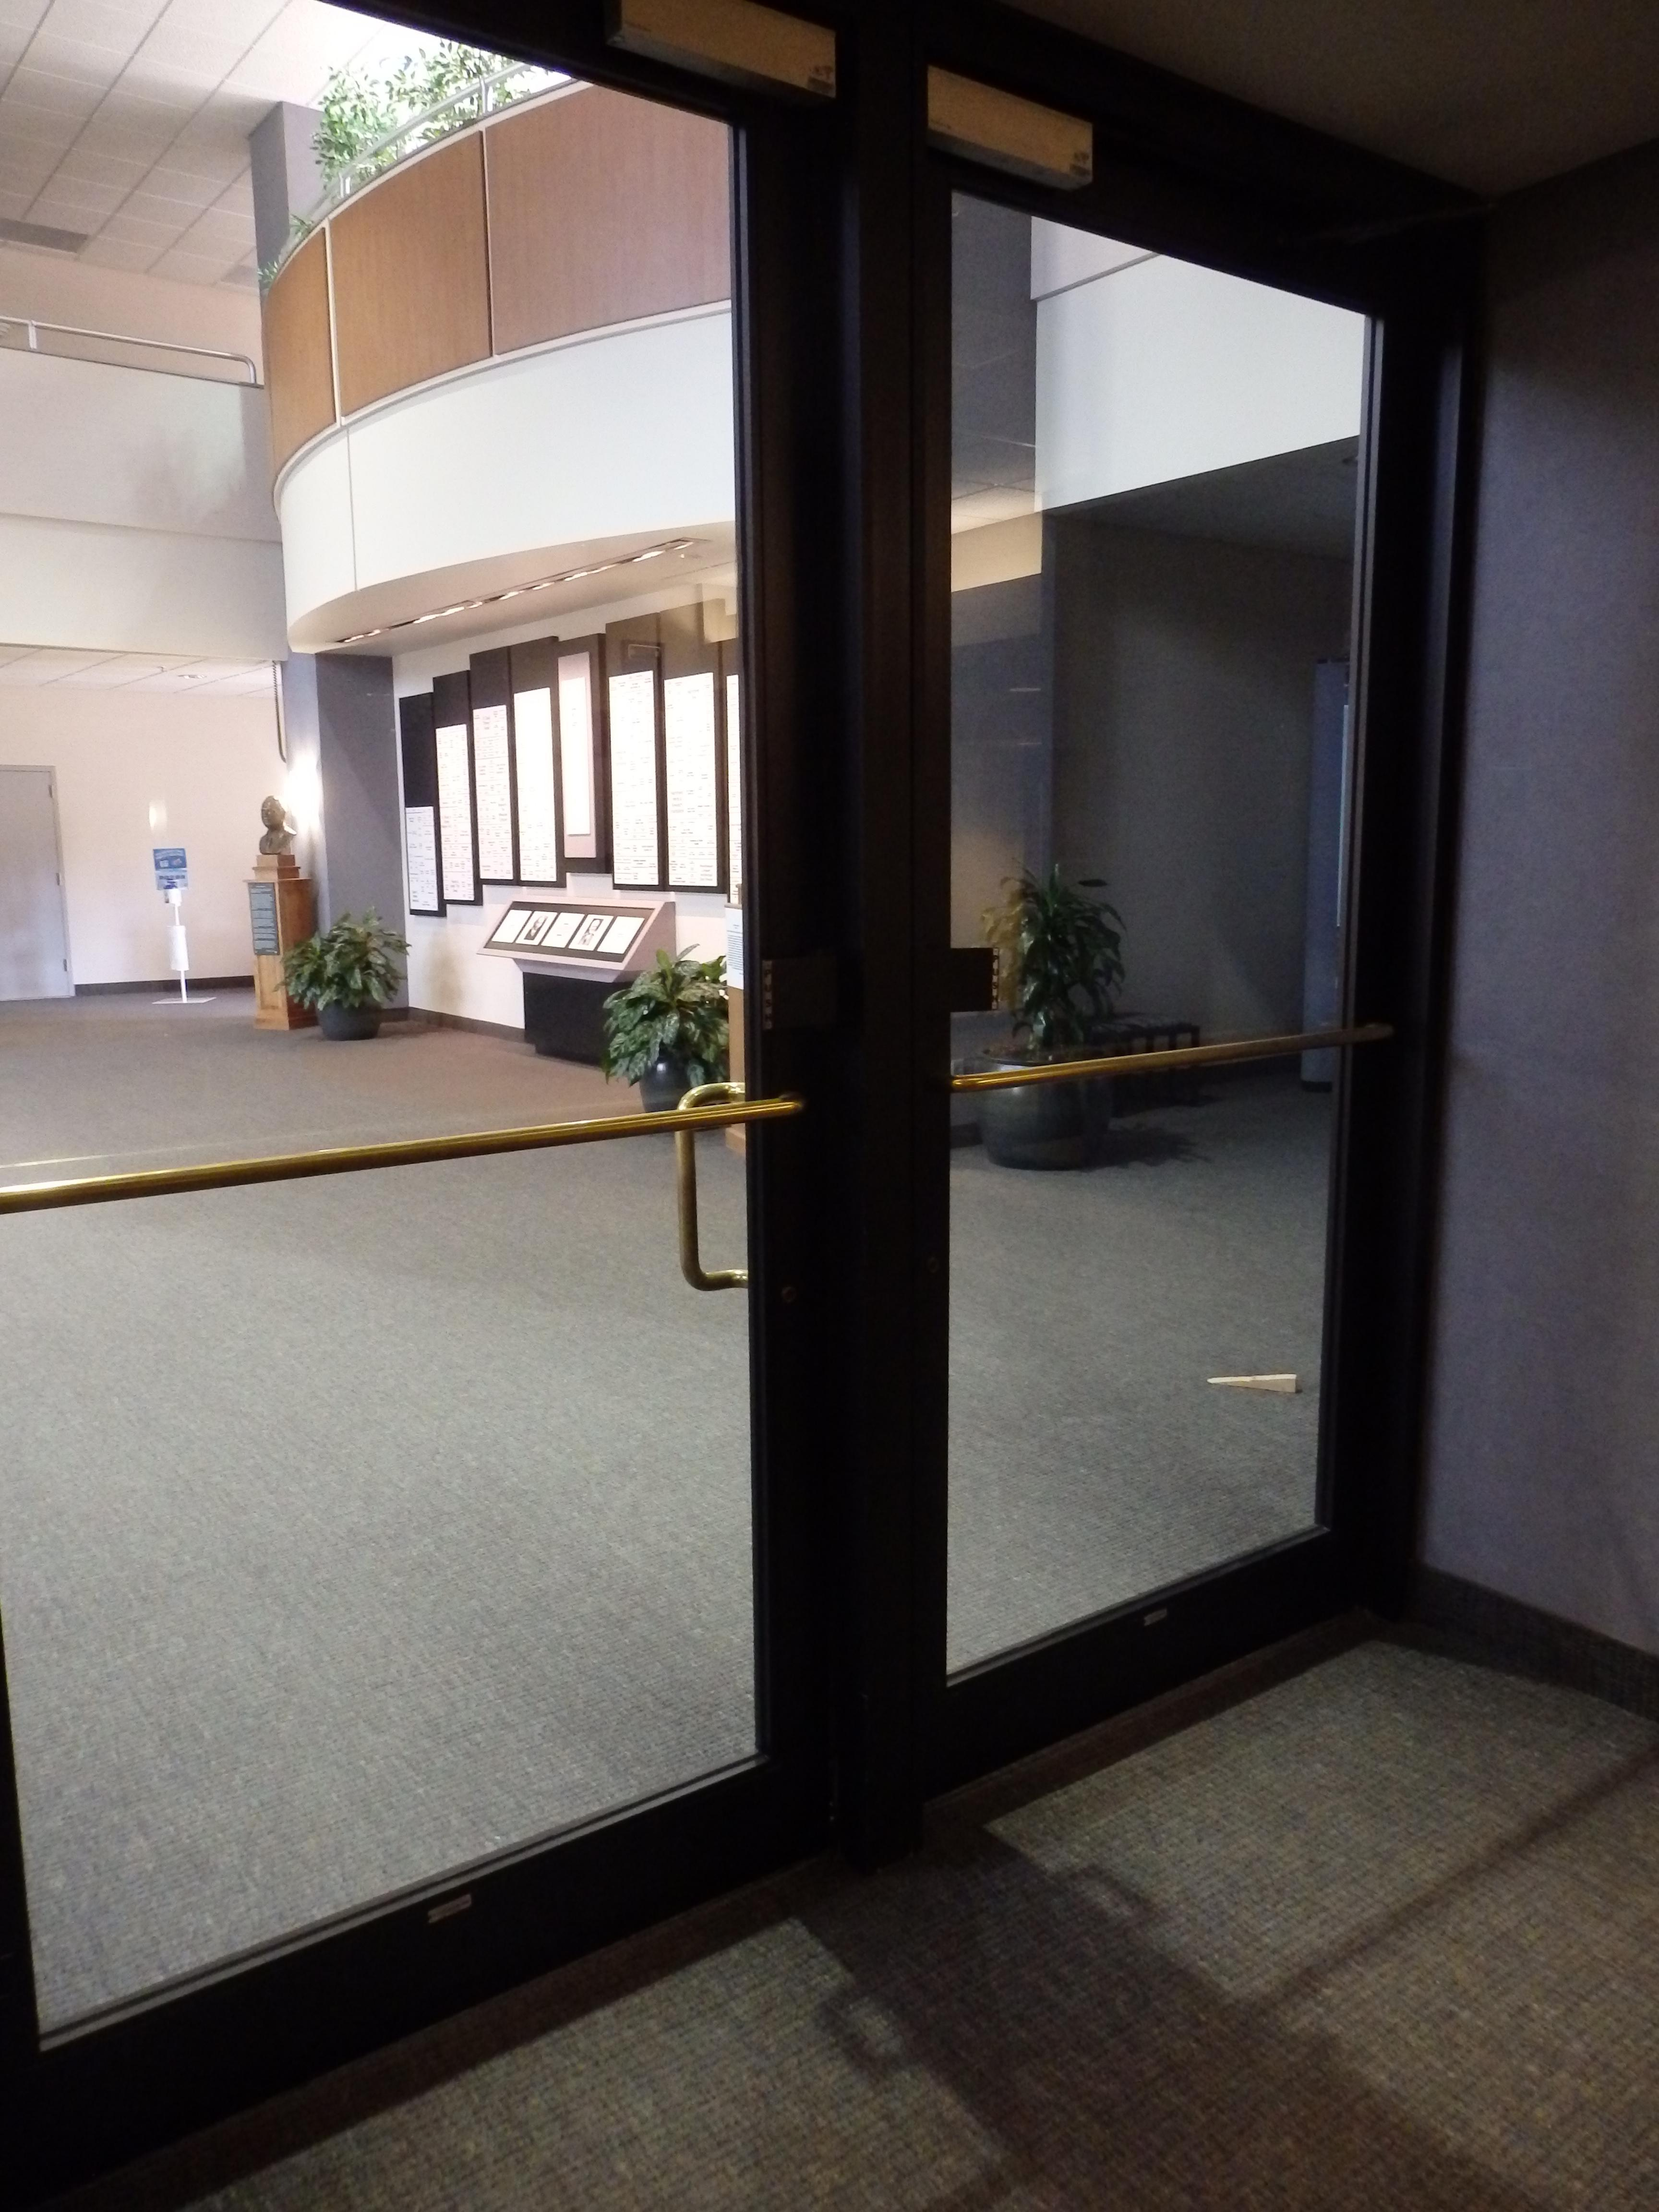door: (52, 0, 1338, 2052)
